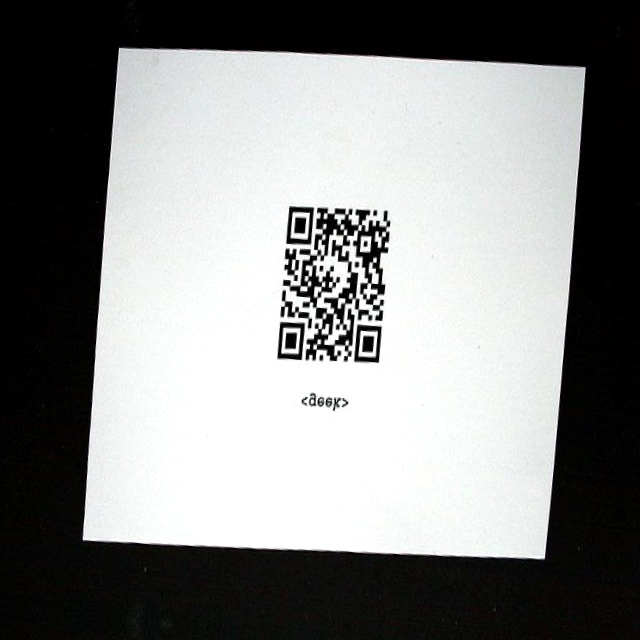qr-code: (273, 202, 394, 369)
